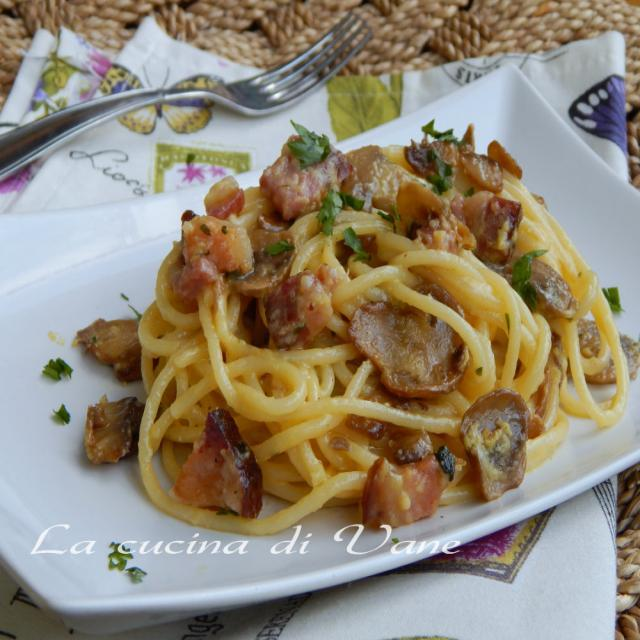Pasta with carbonara sauce: (71, 128, 615, 556)
